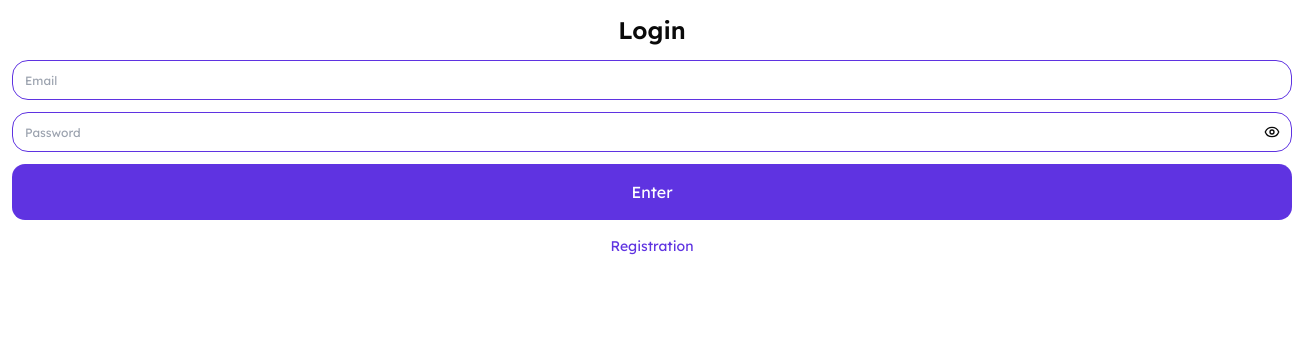
LoginForm › Form Validation › should validate email format
Type "invalid-email" into the field with placeholder "Email" at (652, 80), box [12,60,1292,100]
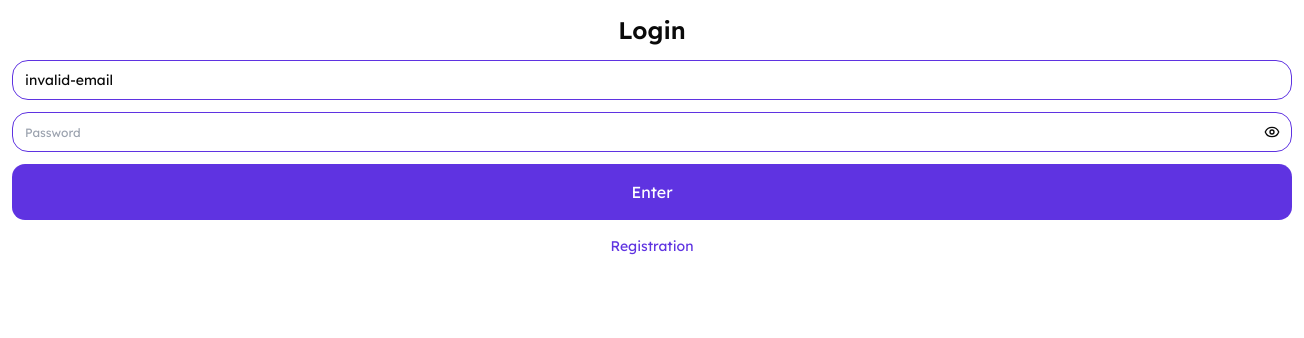
Click the button "Enter" at (652, 192), box [12,164,1292,220]
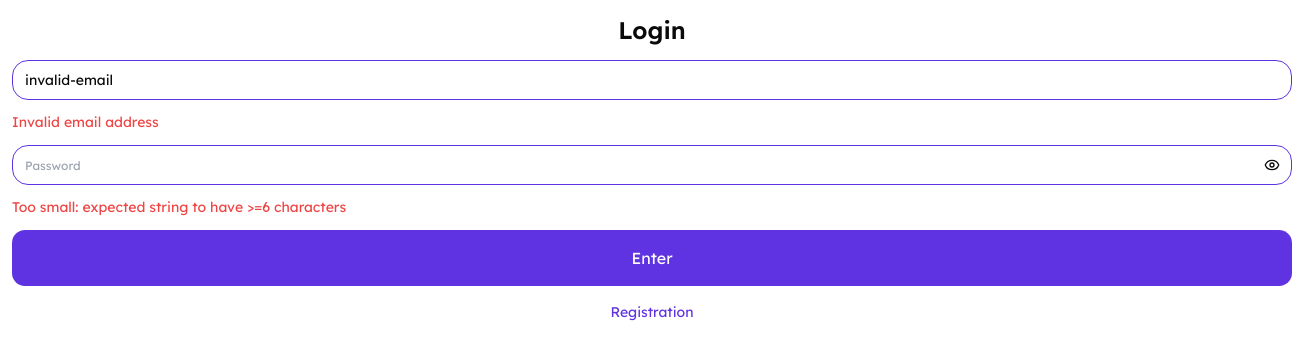
Expected: the text "Invalid email address" is shown, [12,113,159,131]
